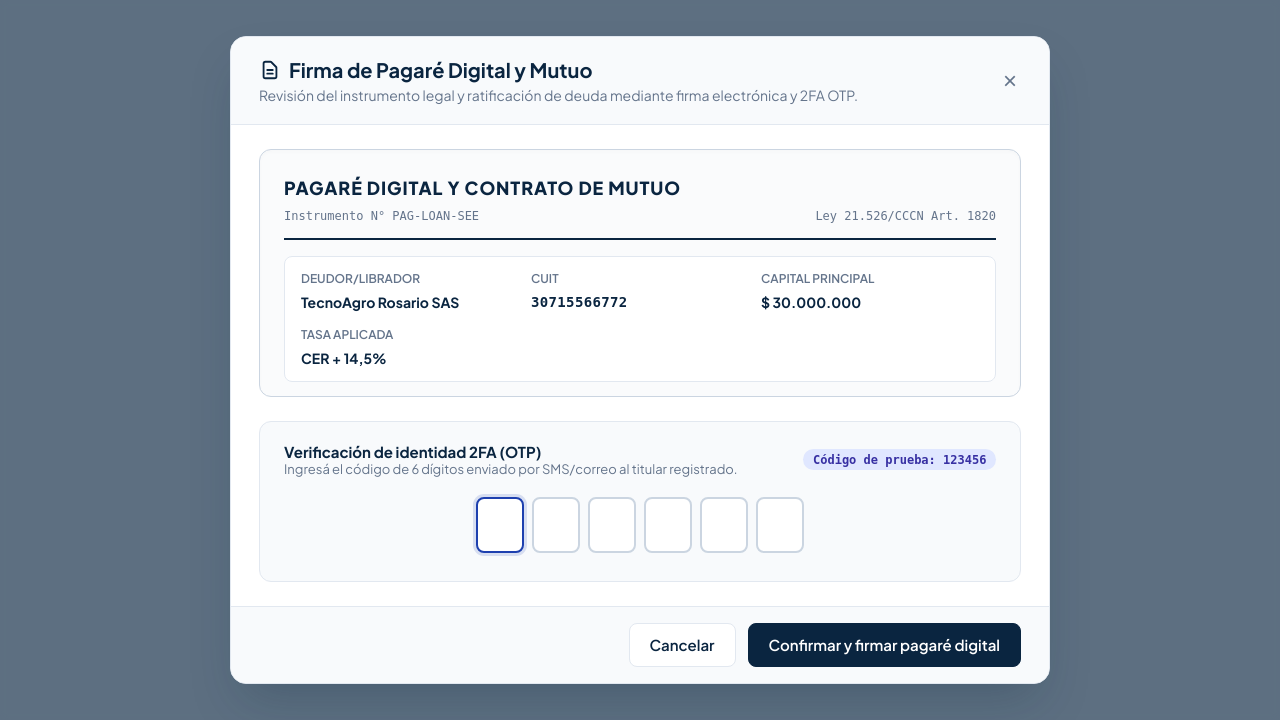
PromissoryNoteModal Component & Signing Flow (Issue #16) › displays error and prevents submission when OTP is incomplete
This screenshot has width=1280, height=720.
# Enter only 3 digits
Step 1. Type "1" into the field with test id "otp-input-0" → {"x": 500, "y": 525}, box [476,497,524,553]
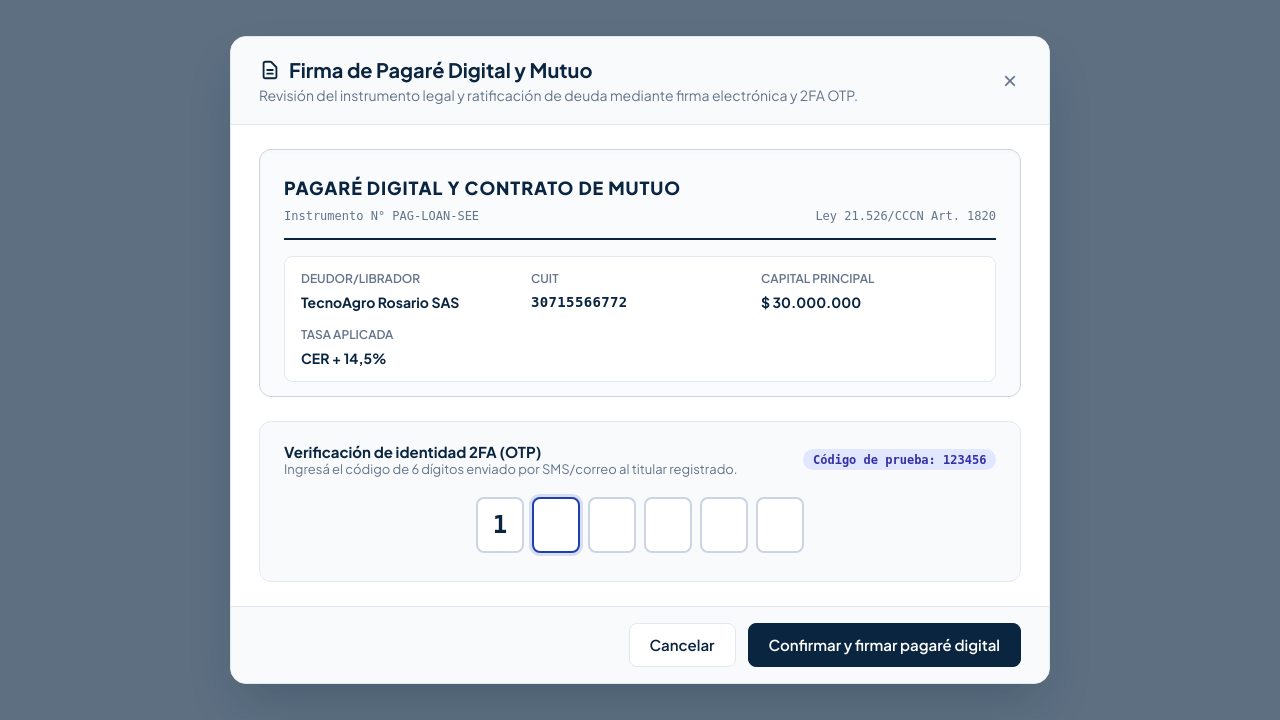
Step 2. Type "2" into the field with test id "otp-input-1" → {"x": 556, "y": 525}, box [532,497,580,553]
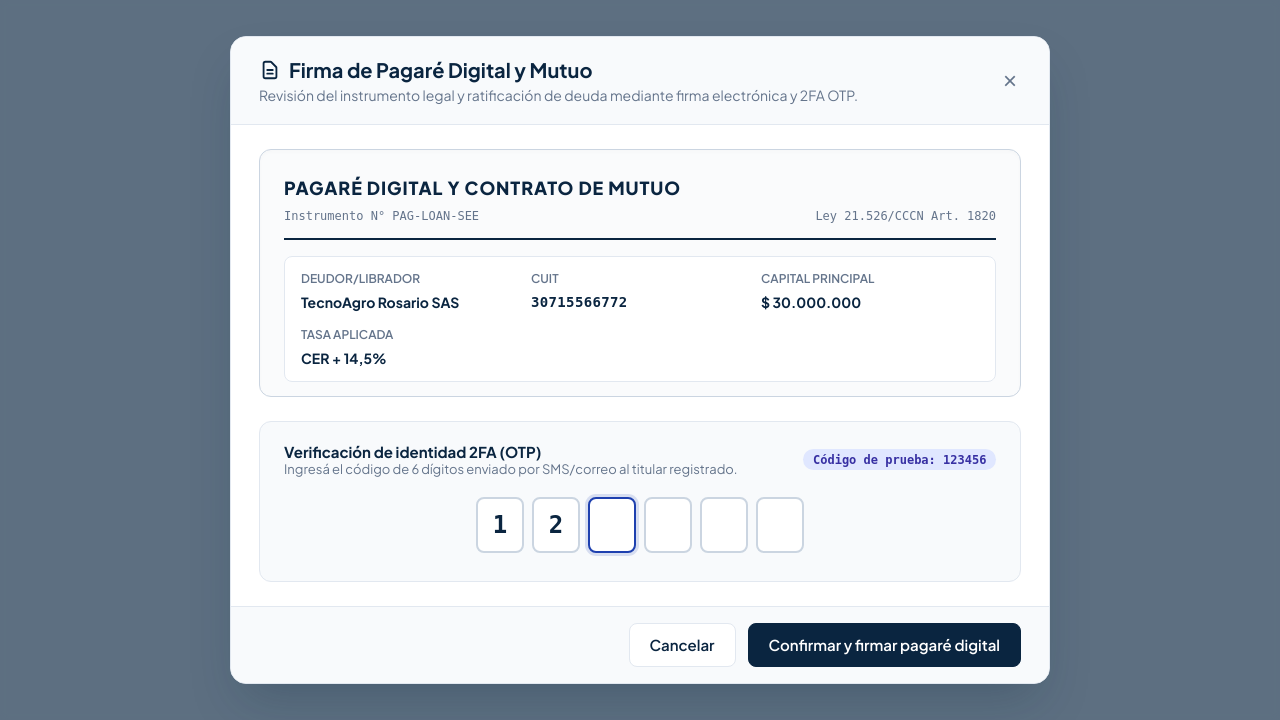
Step 3. Type "3" into the field with test id "otp-input-2" → {"x": 612, "y": 525}, box [588,497,636,553]
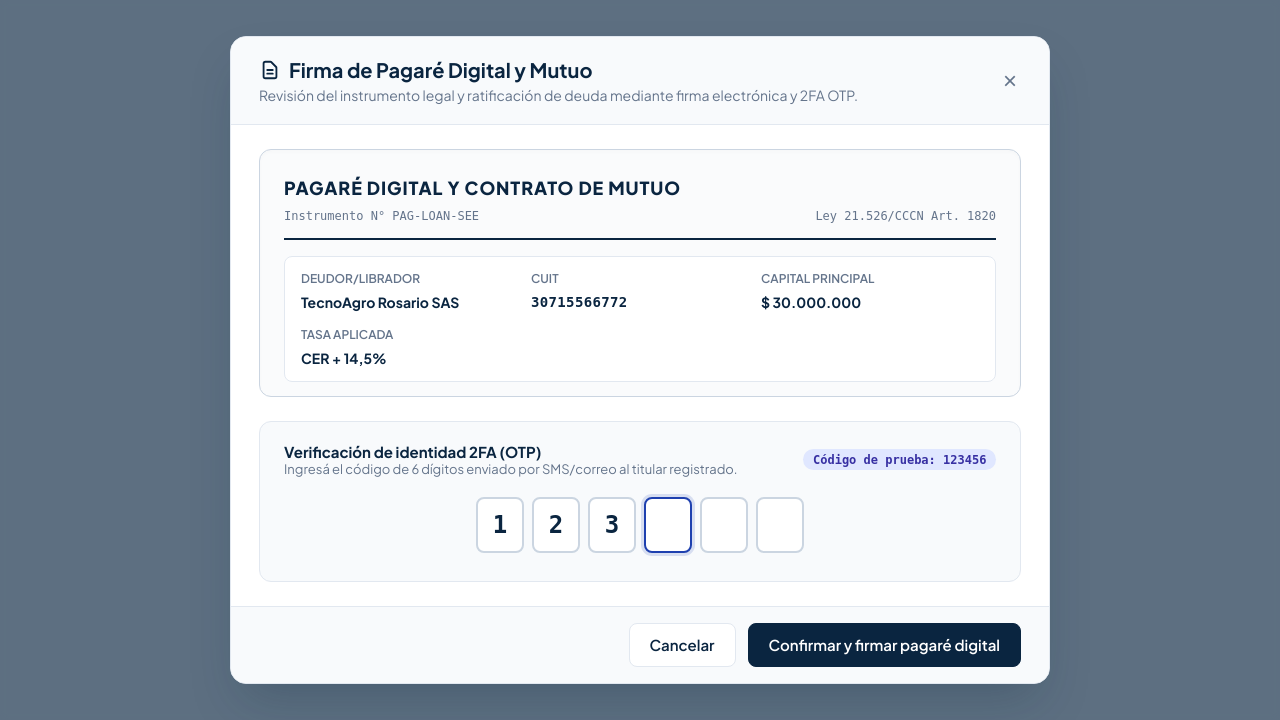
Step 4. Click the button with test id "btn-confirm-sign" → {"x": 884, "y": 645}, box [748,623,1021,667]
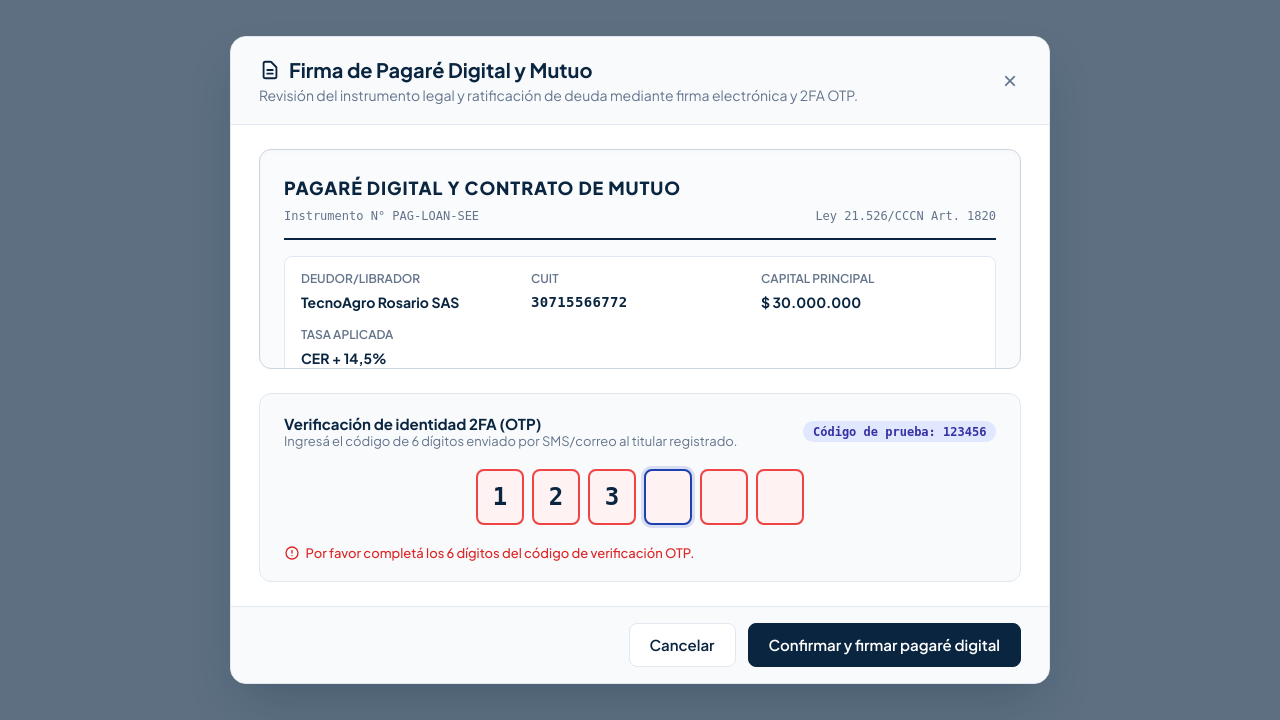
Expected: the message with test id "otp-error-message" shows "completá los 6 dígitos", [306,545,694,561]
